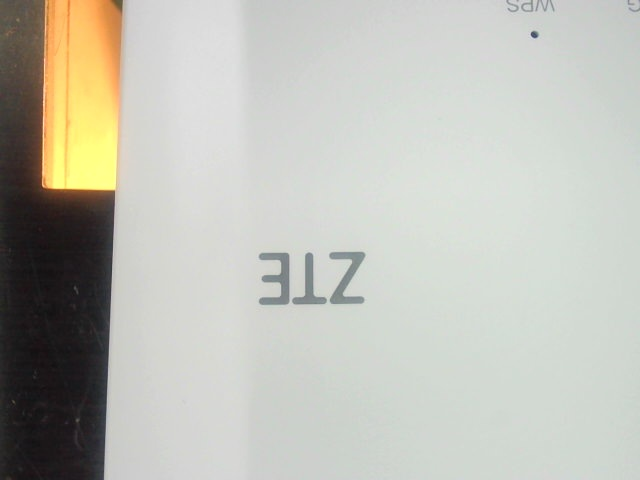AO_ZTESmall: (249, 241, 384, 313)
